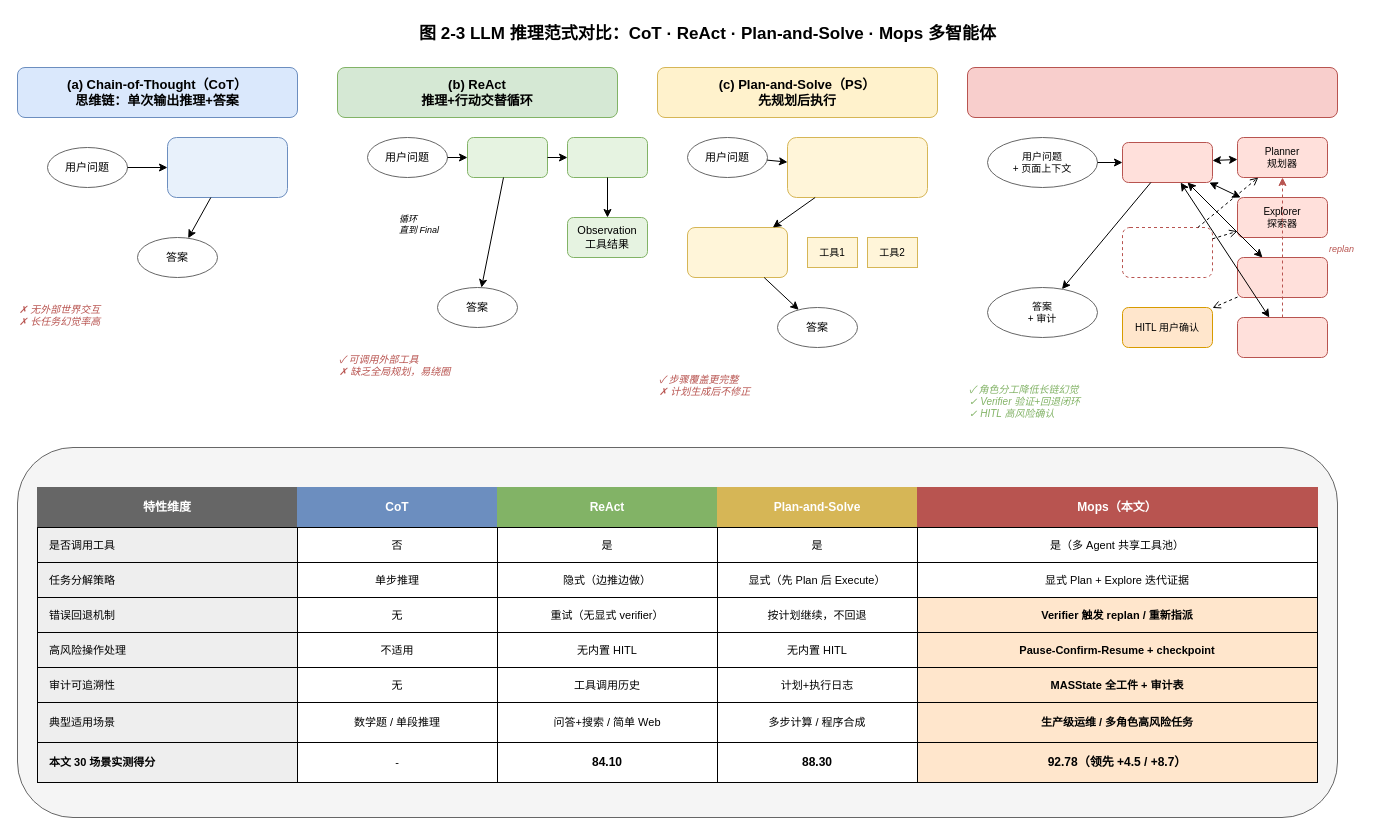
Some shapes in this 1395 by 835 pixel diagram are drawn without their labels. Here are the shapes that lost their labels. From the top down, the box of each, then its label:
(966, 66, 1338, 118): (d) 本文 Mops 多智能体协作 协调+规划+探索+执行+验证 五角色 + 回退反馈
(166, 136, 288, 198): LLM 一次生成 Thought + Answer
(466, 136, 548, 178): LLM Thought
(566, 136, 648, 178): Action 调用工具
(786, 136, 928, 198): Planner 生成 Plan step1 → step2 → ...
(1122, 142, 1212, 182): Coordinator 协调器
(686, 226, 788, 278): Executor 逐步执行
(1122, 226, 1212, 278): MASState 工件共享
(1236, 256, 1328, 298): Executor 执行器
(1236, 316, 1328, 358): Verifier 验证器
(16, 446, 1338, 818): 范式特征对比
